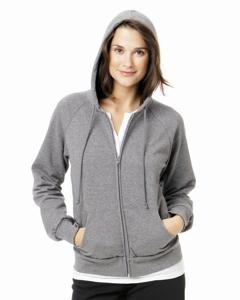C_jacket: (28, 7, 202, 276)
